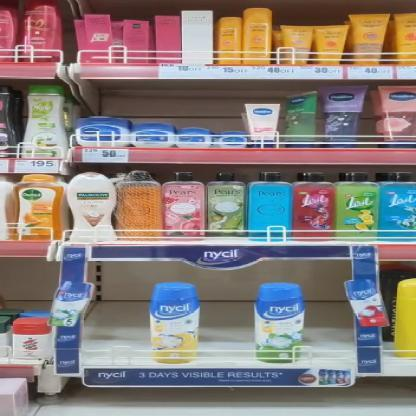Nycil Prickly Heat Powder: (152, 284, 200, 361), (254, 282, 302, 358)
